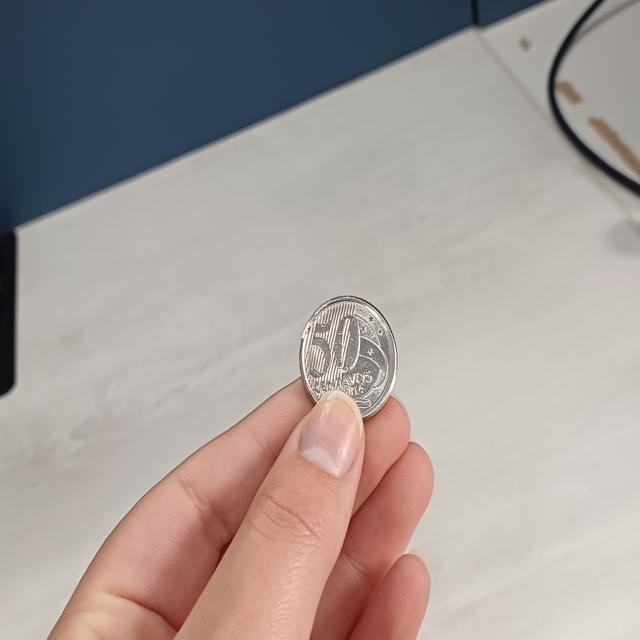50 cents: (297, 291, 399, 425)
